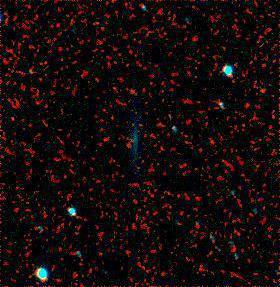star: (115, 76, 145, 106)
